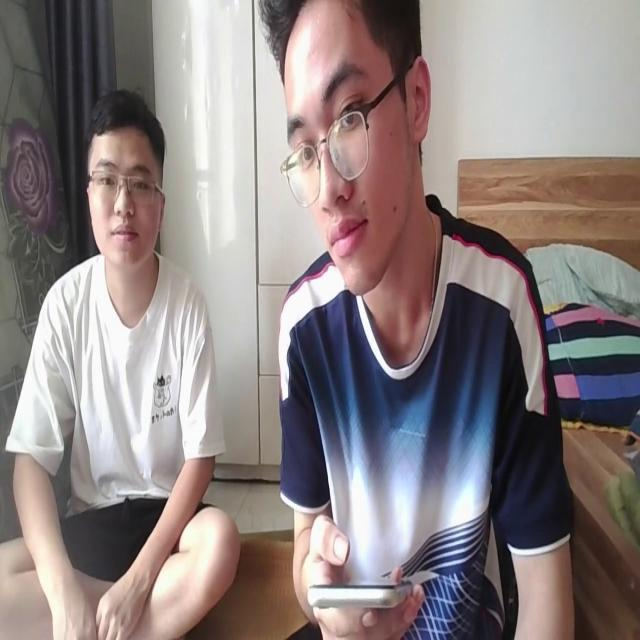extra_person: (10, 79, 241, 640)
phone: (303, 569, 412, 612)
student: (256, 0, 574, 640)
